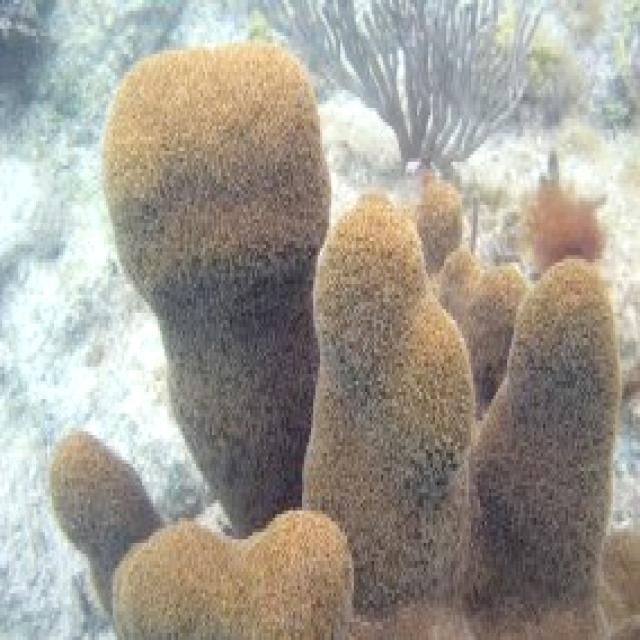Coral: (48, 38, 640, 639), (257, 0, 540, 164)
